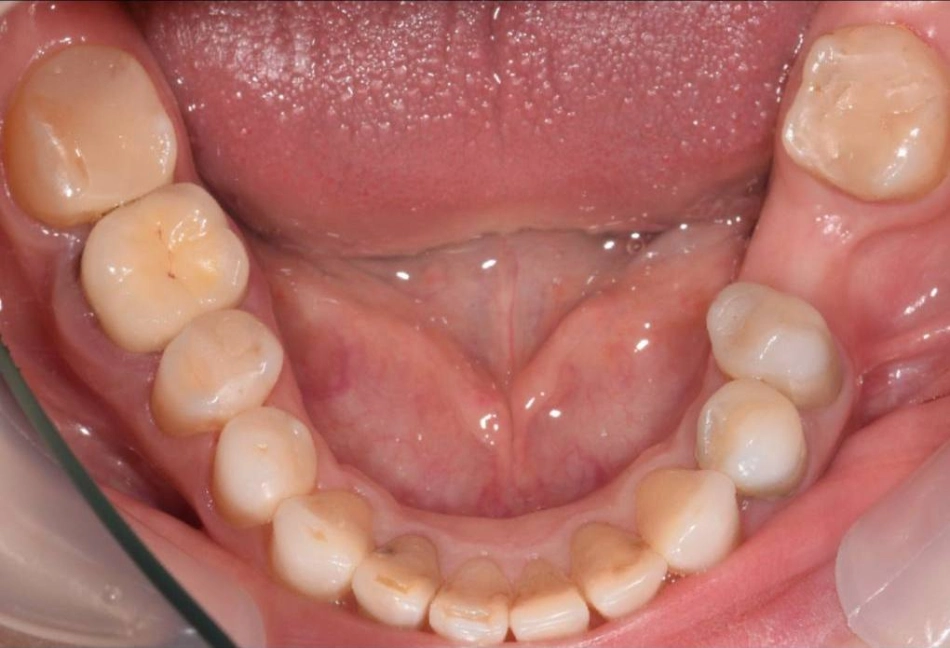LL1BC_healthy: (702, 377, 813, 490)
LL2BC_healthy: (708, 281, 843, 399)
LL2M_healthy: (790, 39, 943, 186)
LLCI_healthy: (509, 558, 590, 634)
LLC_healthy: (639, 461, 737, 567)
LLLI_healthy: (580, 520, 663, 607)
LR1BC_healthy: (213, 411, 310, 520)
LR1M_healthy: (90, 198, 244, 331)
LR2BC_healthy: (158, 319, 286, 411)
LR2M_healthy: (21, 55, 174, 198)
LRCI_decay: (440, 549, 507, 638)
LRC_decay: (287, 490, 362, 598)
LRLI_decay: (376, 528, 432, 622)
